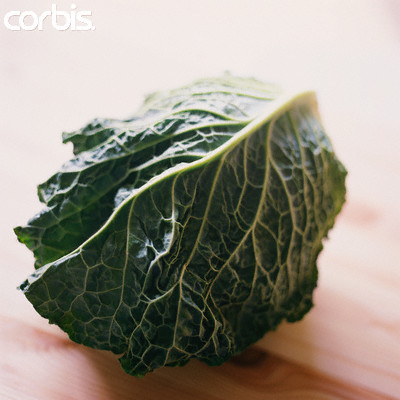cabbage: (16, 70, 349, 382)
